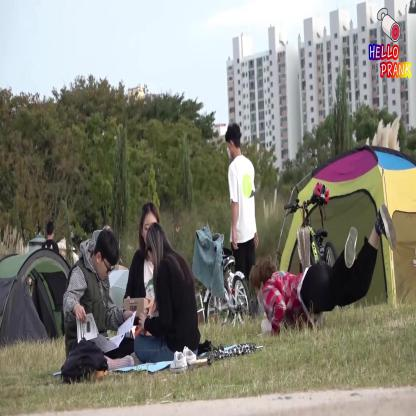Fall_Down: (252, 204, 397, 344)
